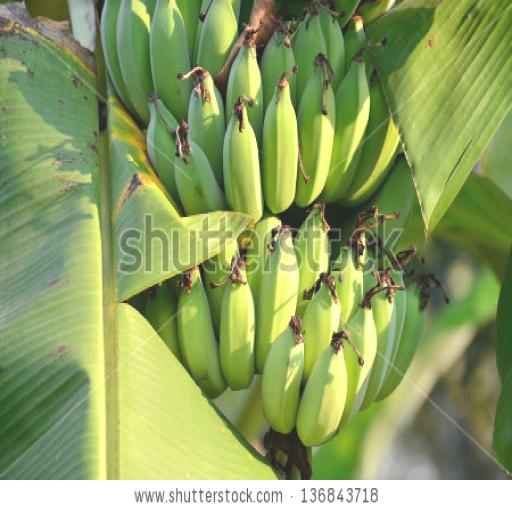banana-unripe: (81, 0, 441, 477)
